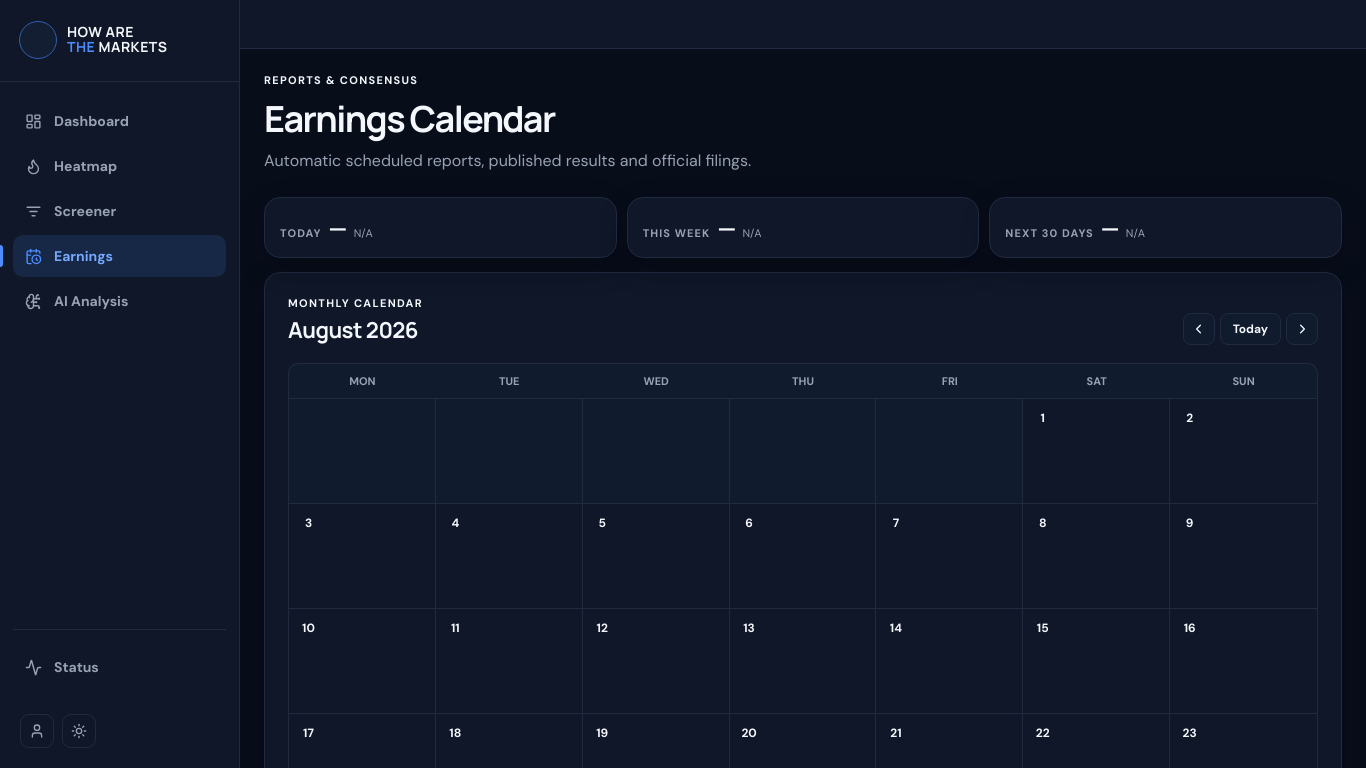
Test: Morning Briefing frontend demo › uses the New York market date for calendar Today near a UTC boundary
Expected: the heading "August 2026" is shown, x1=288 y1=315 x2=423 y2=345
Click the button named "Next month". click: x=1302, y=329
box: x1=1286 y1=313 x2=1318 y2=345
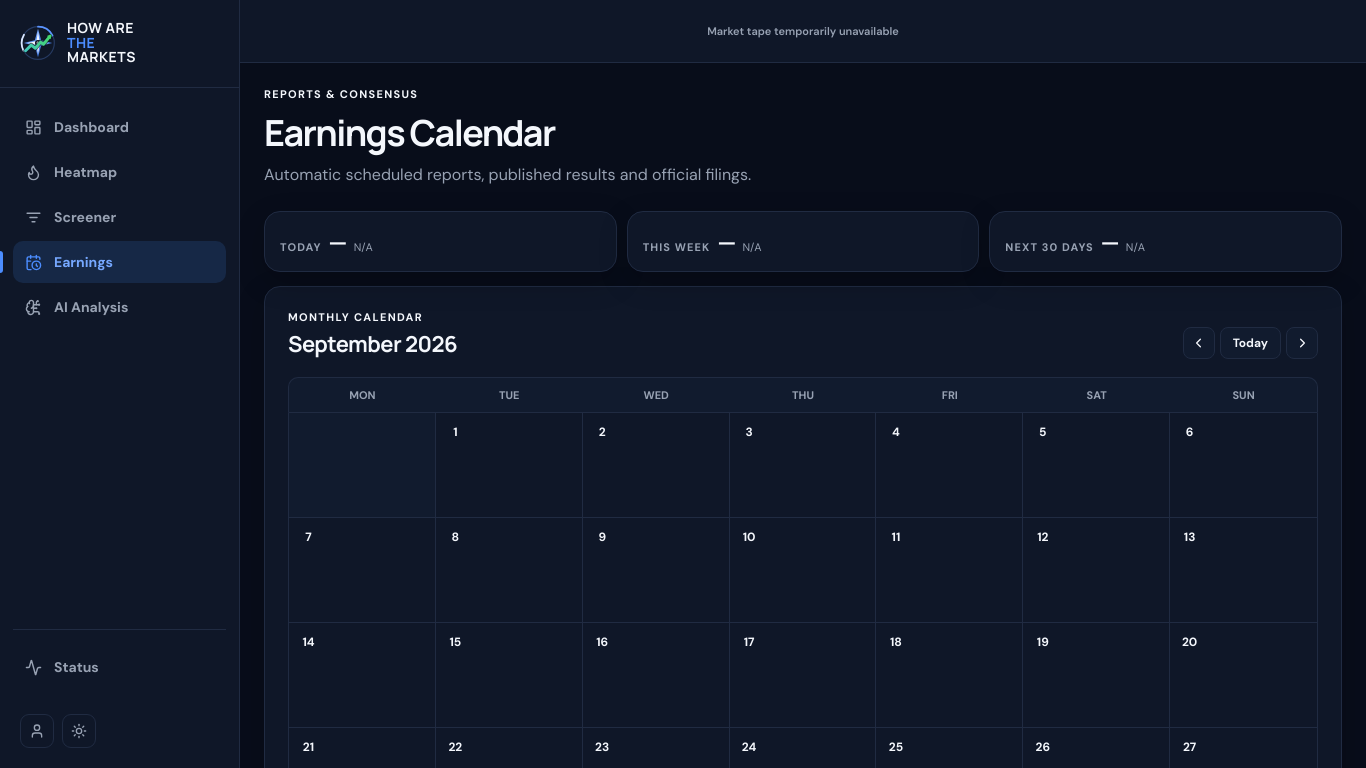
Now the heading "September 2026" is shown, box x1=288 y1=329 x2=457 y2=359
Click the button "Today". click: x=1250, y=343
box: x1=1220 y1=327 x2=1281 y2=359
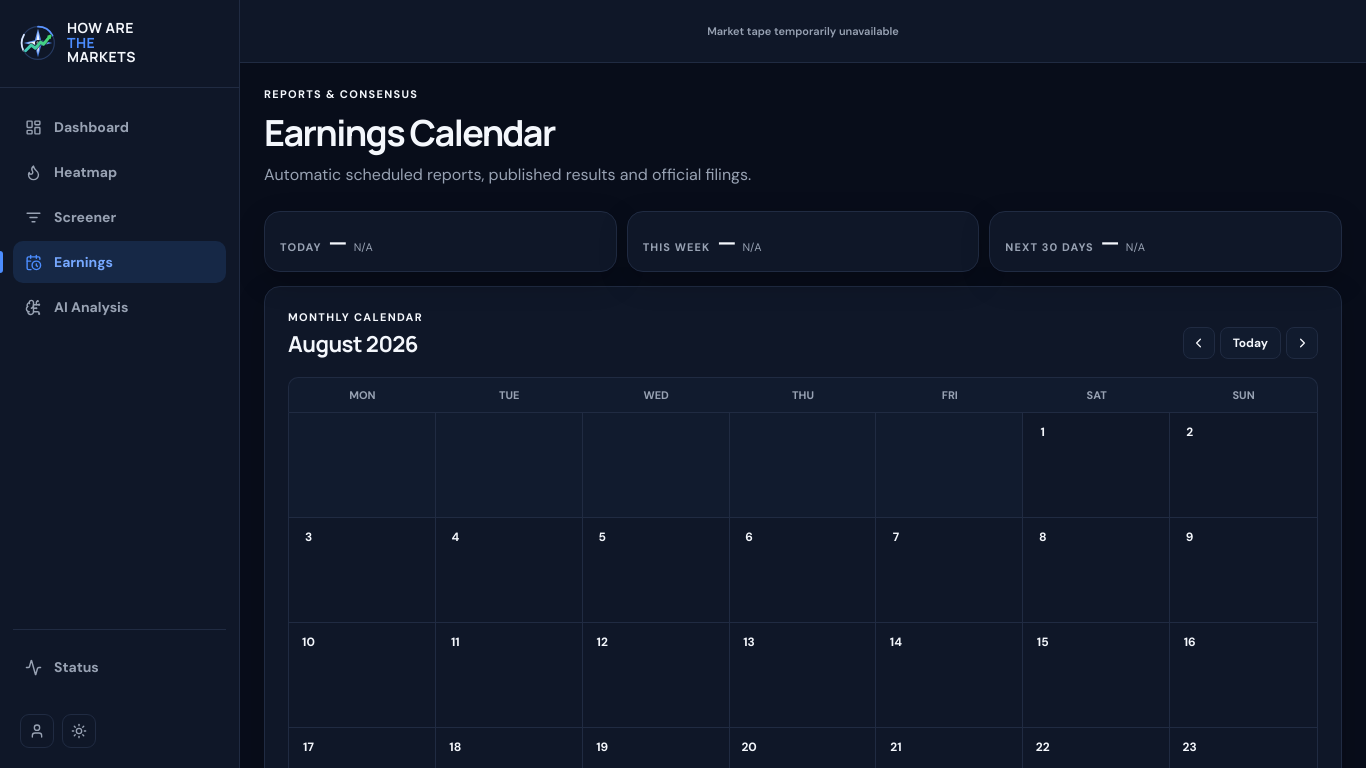
Now the heading "August 2026" is shown, box x1=288 y1=329 x2=423 y2=359
